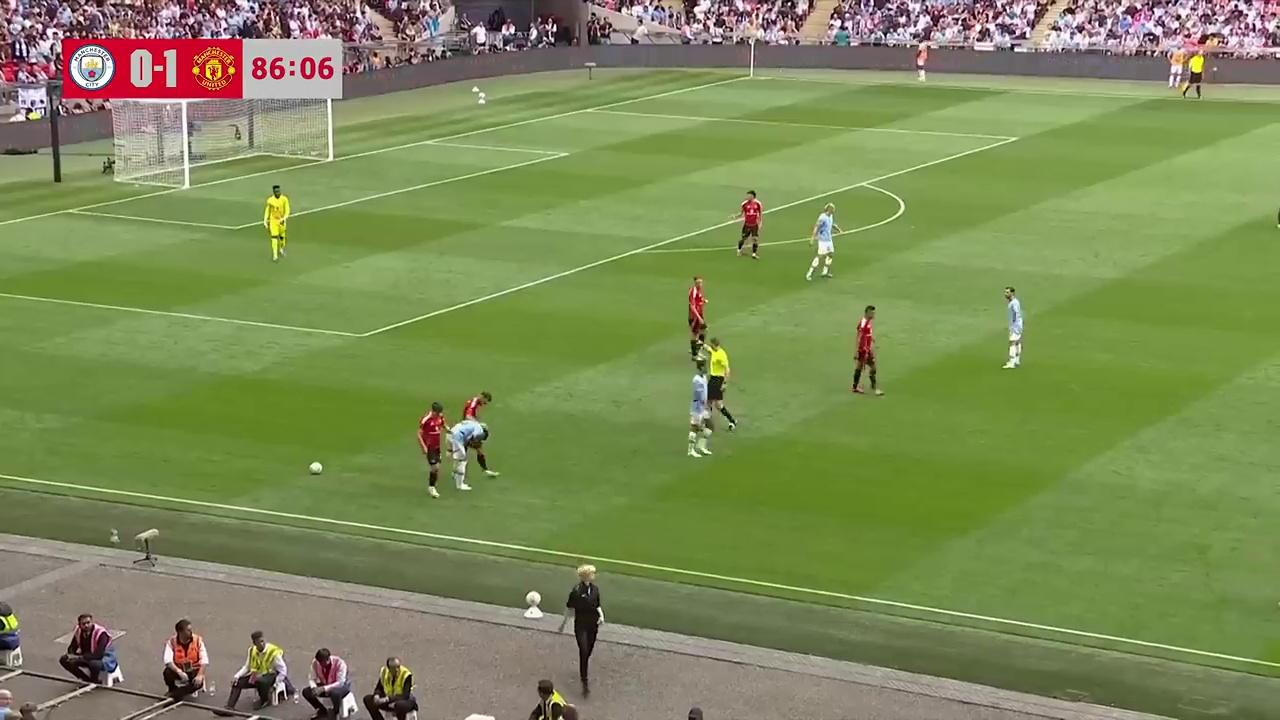ball: (307, 458, 323, 475)
player: (457, 394, 496, 479), (686, 357, 719, 457), (417, 400, 449, 498), (805, 201, 838, 284), (852, 306, 882, 397), (450, 418, 486, 489), (263, 183, 290, 260), (735, 189, 763, 259), (1002, 285, 1024, 369), (688, 275, 710, 357)
referee: (705, 334, 732, 427), (1180, 53, 1206, 100)
